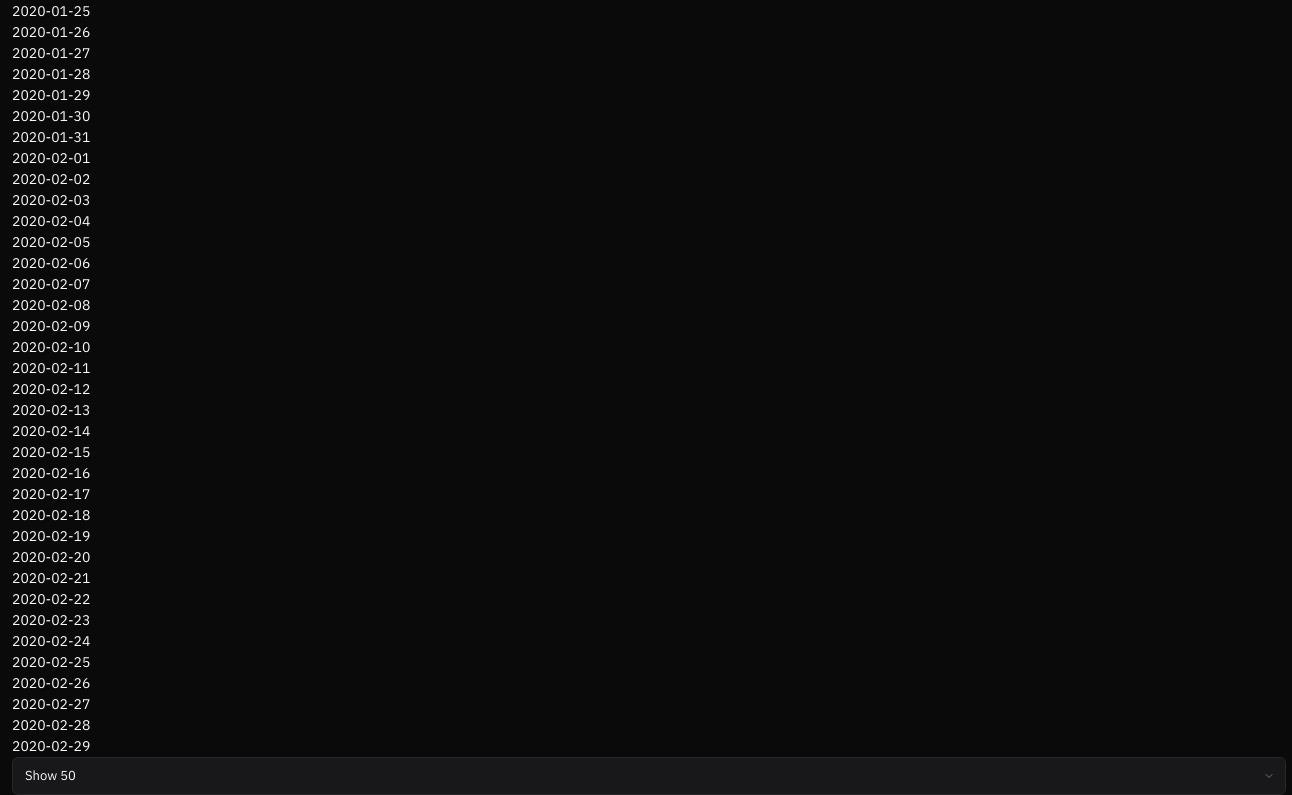
Test: ITEM 3 — DateList pagination size selector › selecting 'All' renders every date in a single step (no +60 stepping)
The width and height of the screenshot is (1292, 795).
(page scrolled)
Step 1. Select "All (250)" in the dropdown with test id "dl-page-size" → (649, 776), box x1=12 y1=757 x2=1286 y2=794
(page scrolled)
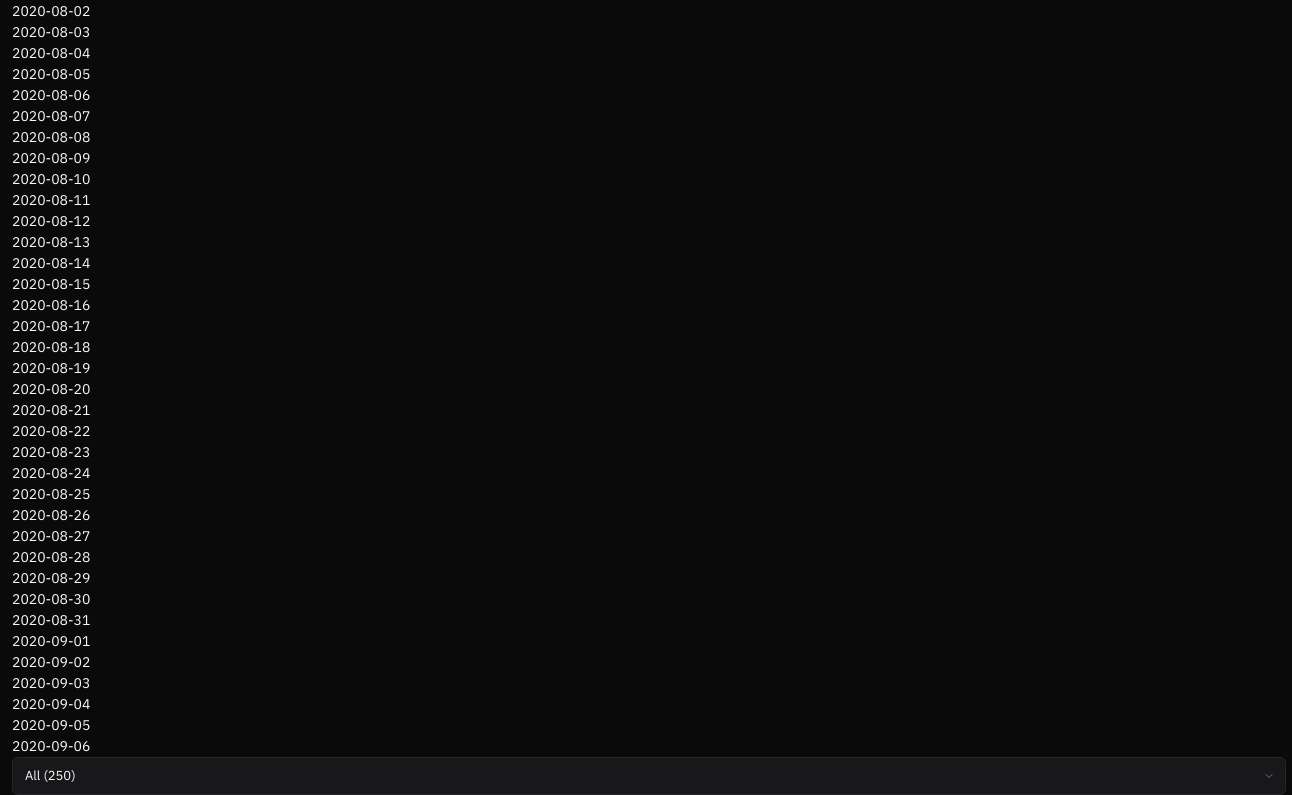
Expected: the button with test id "dl-2020-09-06" is shown, x1=12 y1=736 x2=90 y2=757
